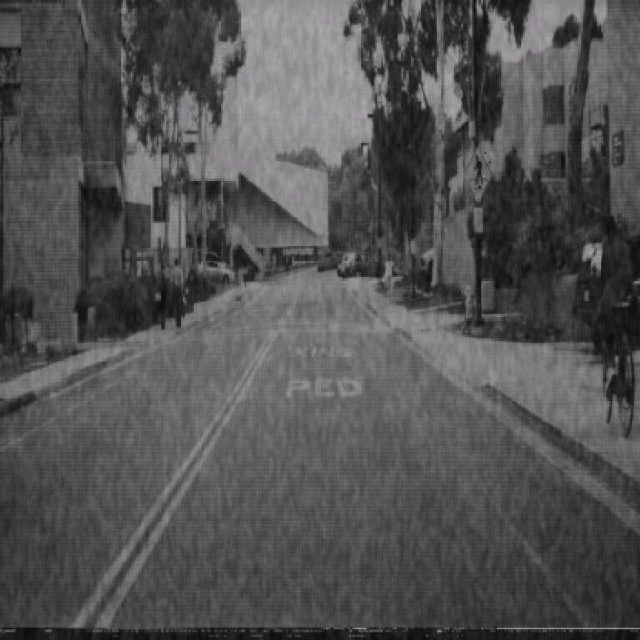pedestrianCrossing: (464, 143, 492, 203)
